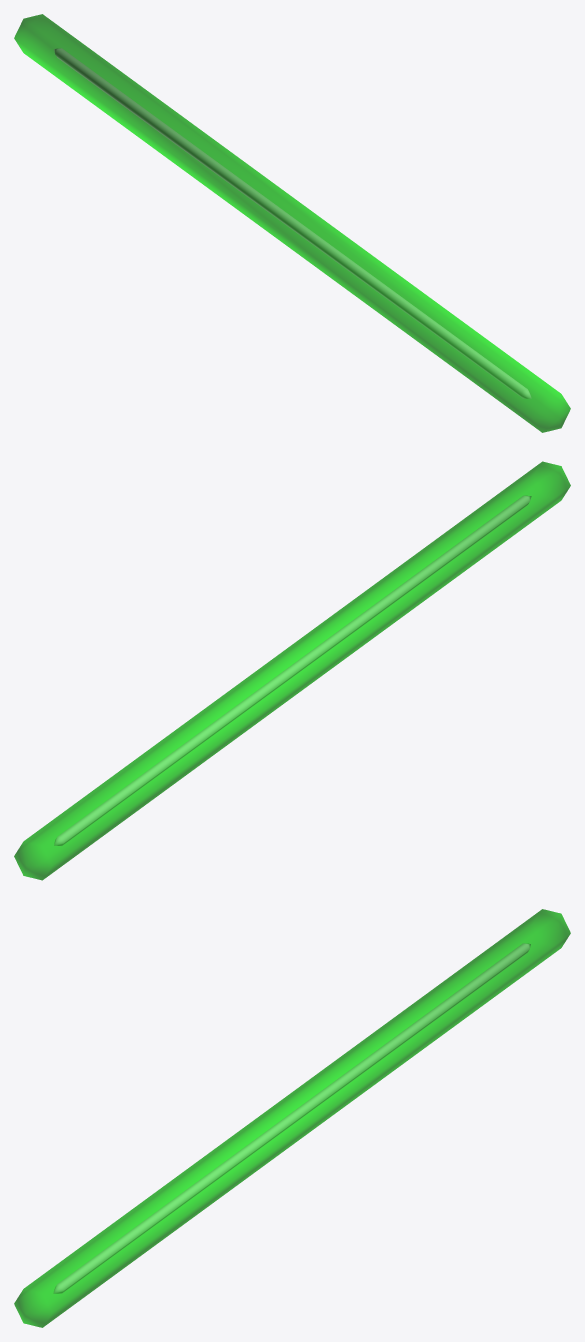
File: green_laser_model.fbx
3 views of the same model, one above another, from view 1: azimuth 30°, elevation 25°; view 2: azimuth 150°, elevation 25°; view 3: azimuth 330°, elevation 25° (orthographic).
Parts seen in each view (by area): view 1: glow, bolt; view 2: glow, bolt; view 3: glow, bolt.
Part boxes in pixels (x1,y1,x2,y2): glow: (14,14,570,432); bolt: (54,48,531,398); glow: (14,461,570,880); bolt: (54,495,531,845); glow: (14,909,570,1327); bolt: (53,943,530,1293).
Size of the model in its own units: 3.15 by 2.73 by 76.43.
